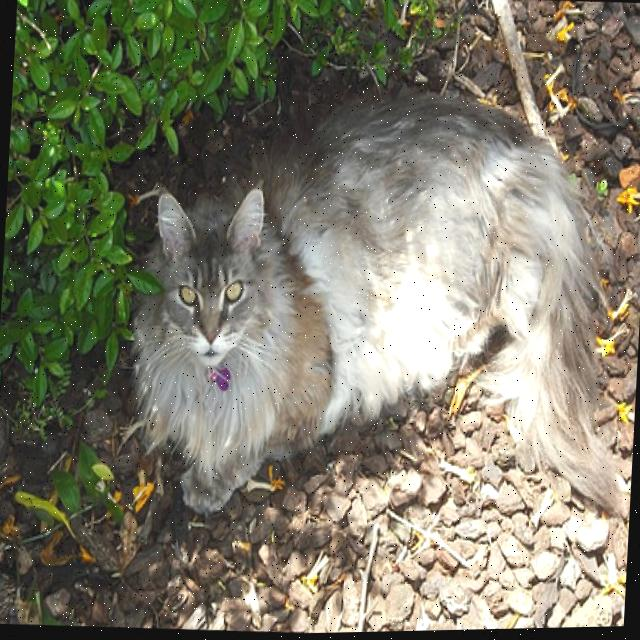Maine Coon: (117, 67, 640, 546)
